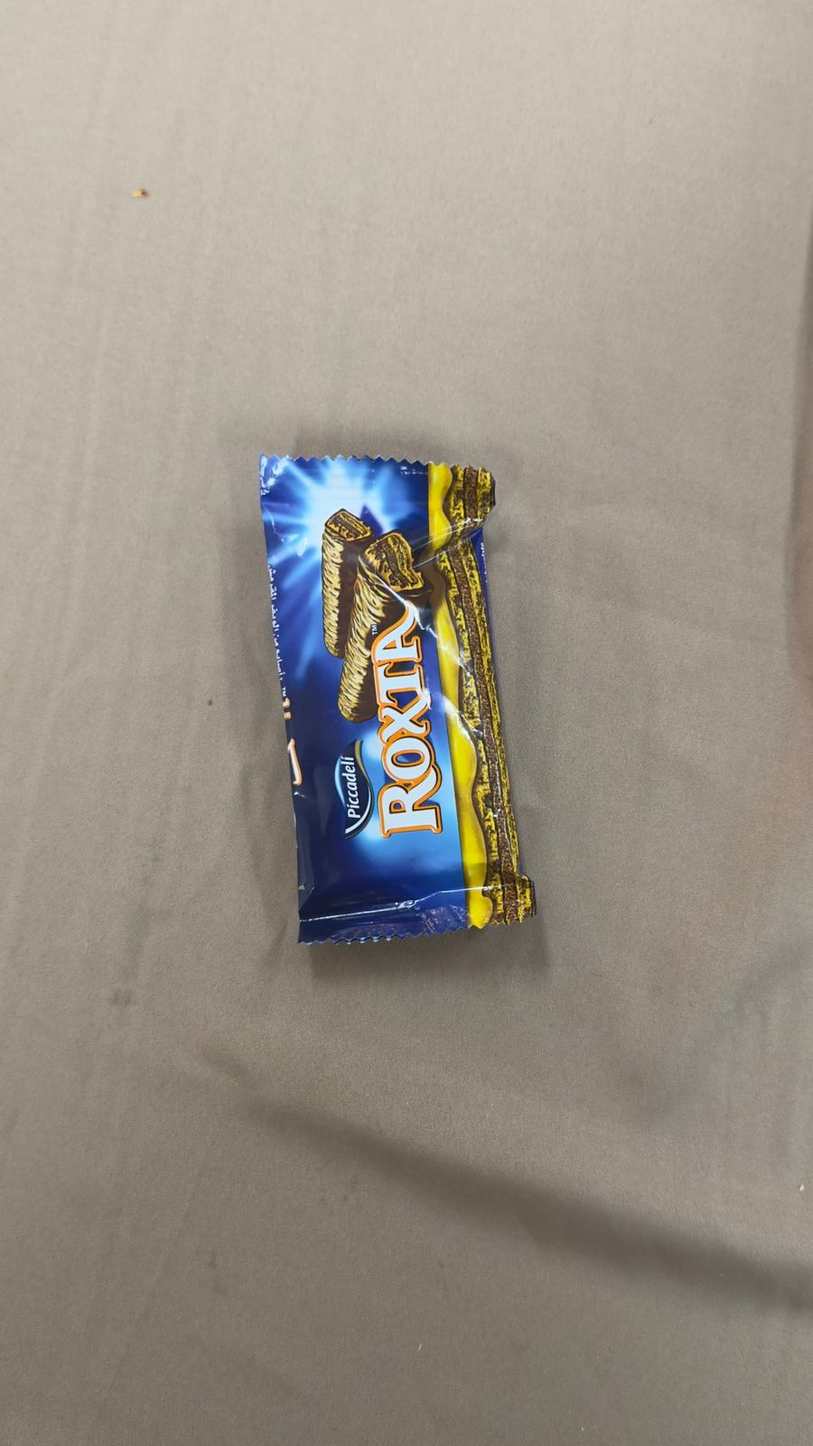plastic: (81, 188, 732, 1345)
